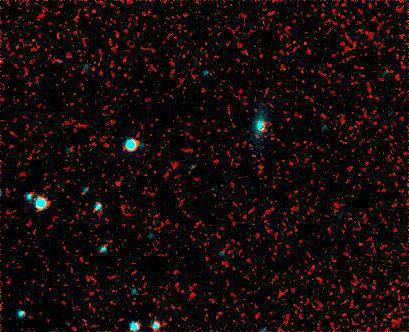star: (249, 114, 279, 144)
